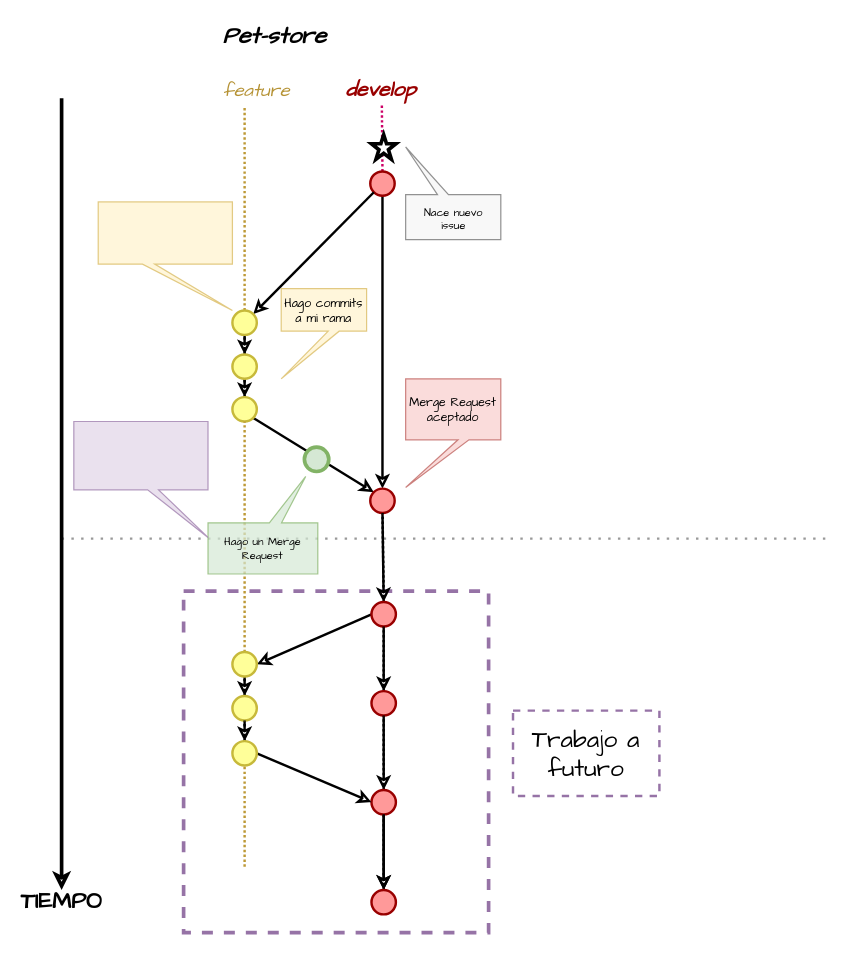
This 854x955 diagram has some shape labels left out. The centre of each missing label's shape, as x and y in pixels:
nueva rama feature/ultra020.xyz: point (164, 255)
Revisión y retroalimentación de mi trabajo por parte de mi equipo: point (140, 478)
